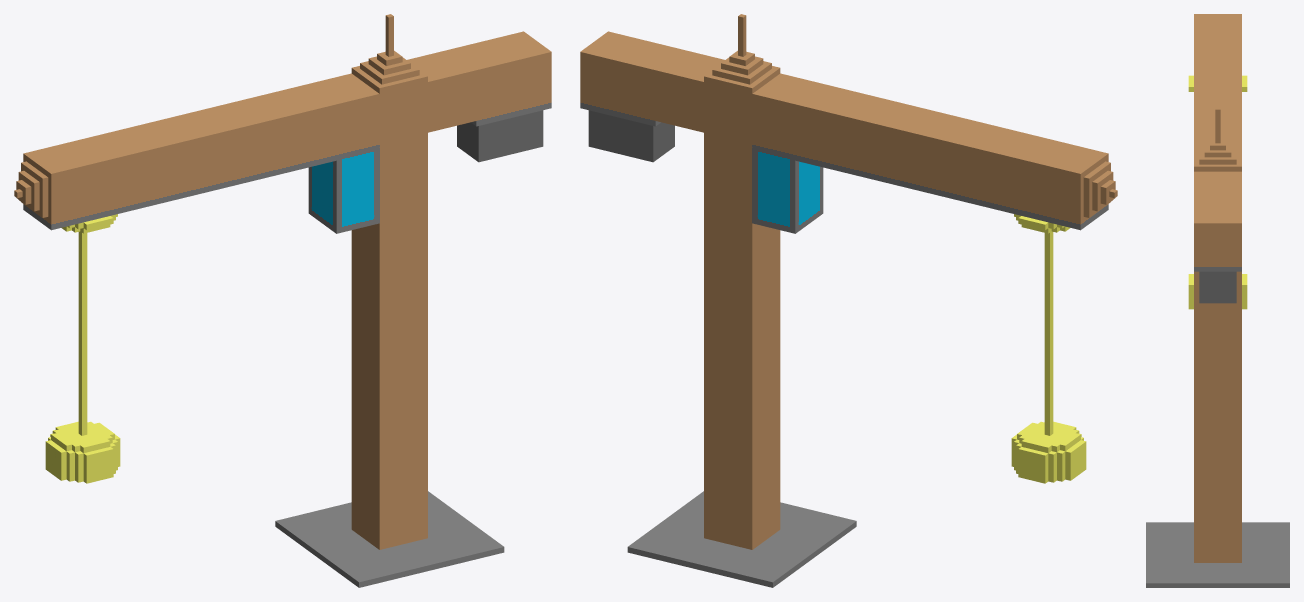
Rendered from Crane1.dae.
3 renders of one model, left to right at view 1: azimuth 30°, elevation 25°; view 2: azimuth 150°, elevation 25°; view 3: azimuth 270°, elevation 25°, orthographic. The views are drawn at different scales.
Parts seen in each view (by area): view 1: Crane1; view 2: Crane1; view 3: Crane1.
Part boxes in pixels (x1,y1,x2,y2): Crane1: (14, 14, 551, 587); Crane1: (580, 14, 1117, 587); Crane1: (1146, 14, 1289, 587).
Size of the model in its own units: 9.7 by 9.3 by 2.7.
1 material, 1 textured.
